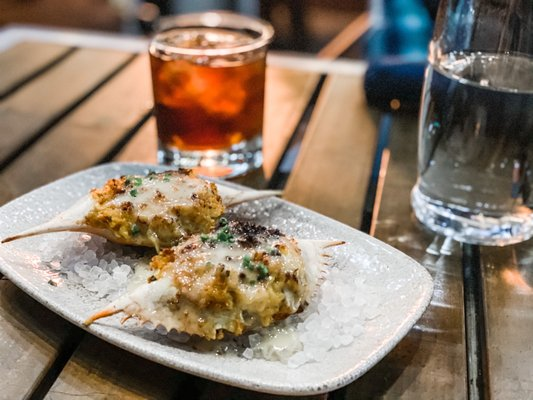pizza: (410, 0, 533, 248), (148, 11, 274, 180)
